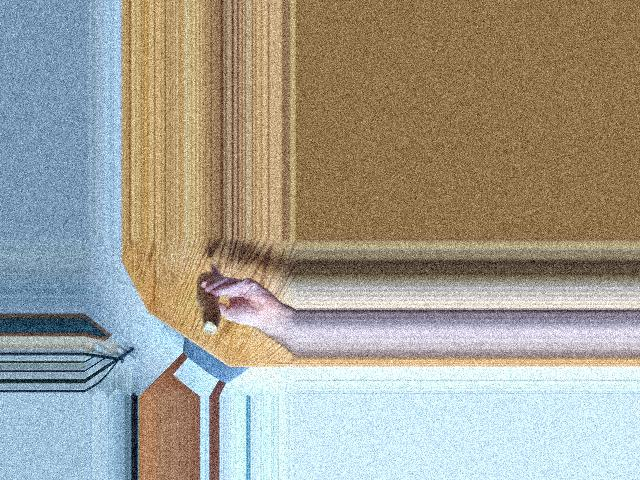sweet_potato: (193, 279, 227, 331)
